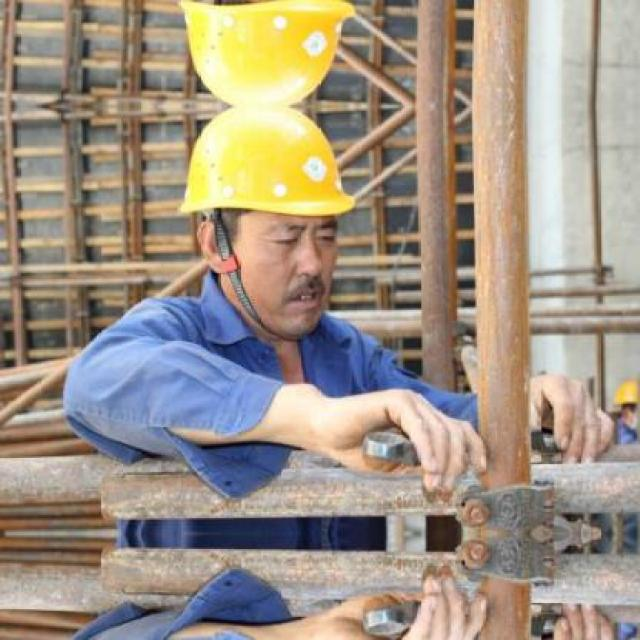helmet: (159, 105, 373, 341), (158, 0, 374, 108)
